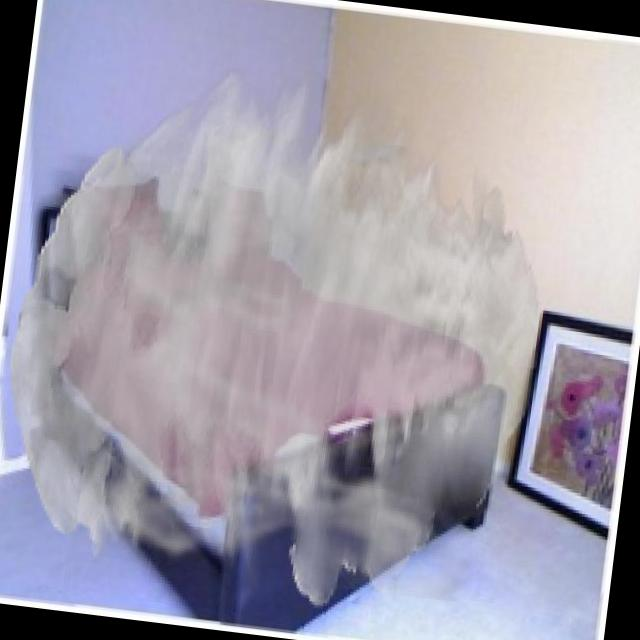Smoke: (0, 39, 568, 631)
